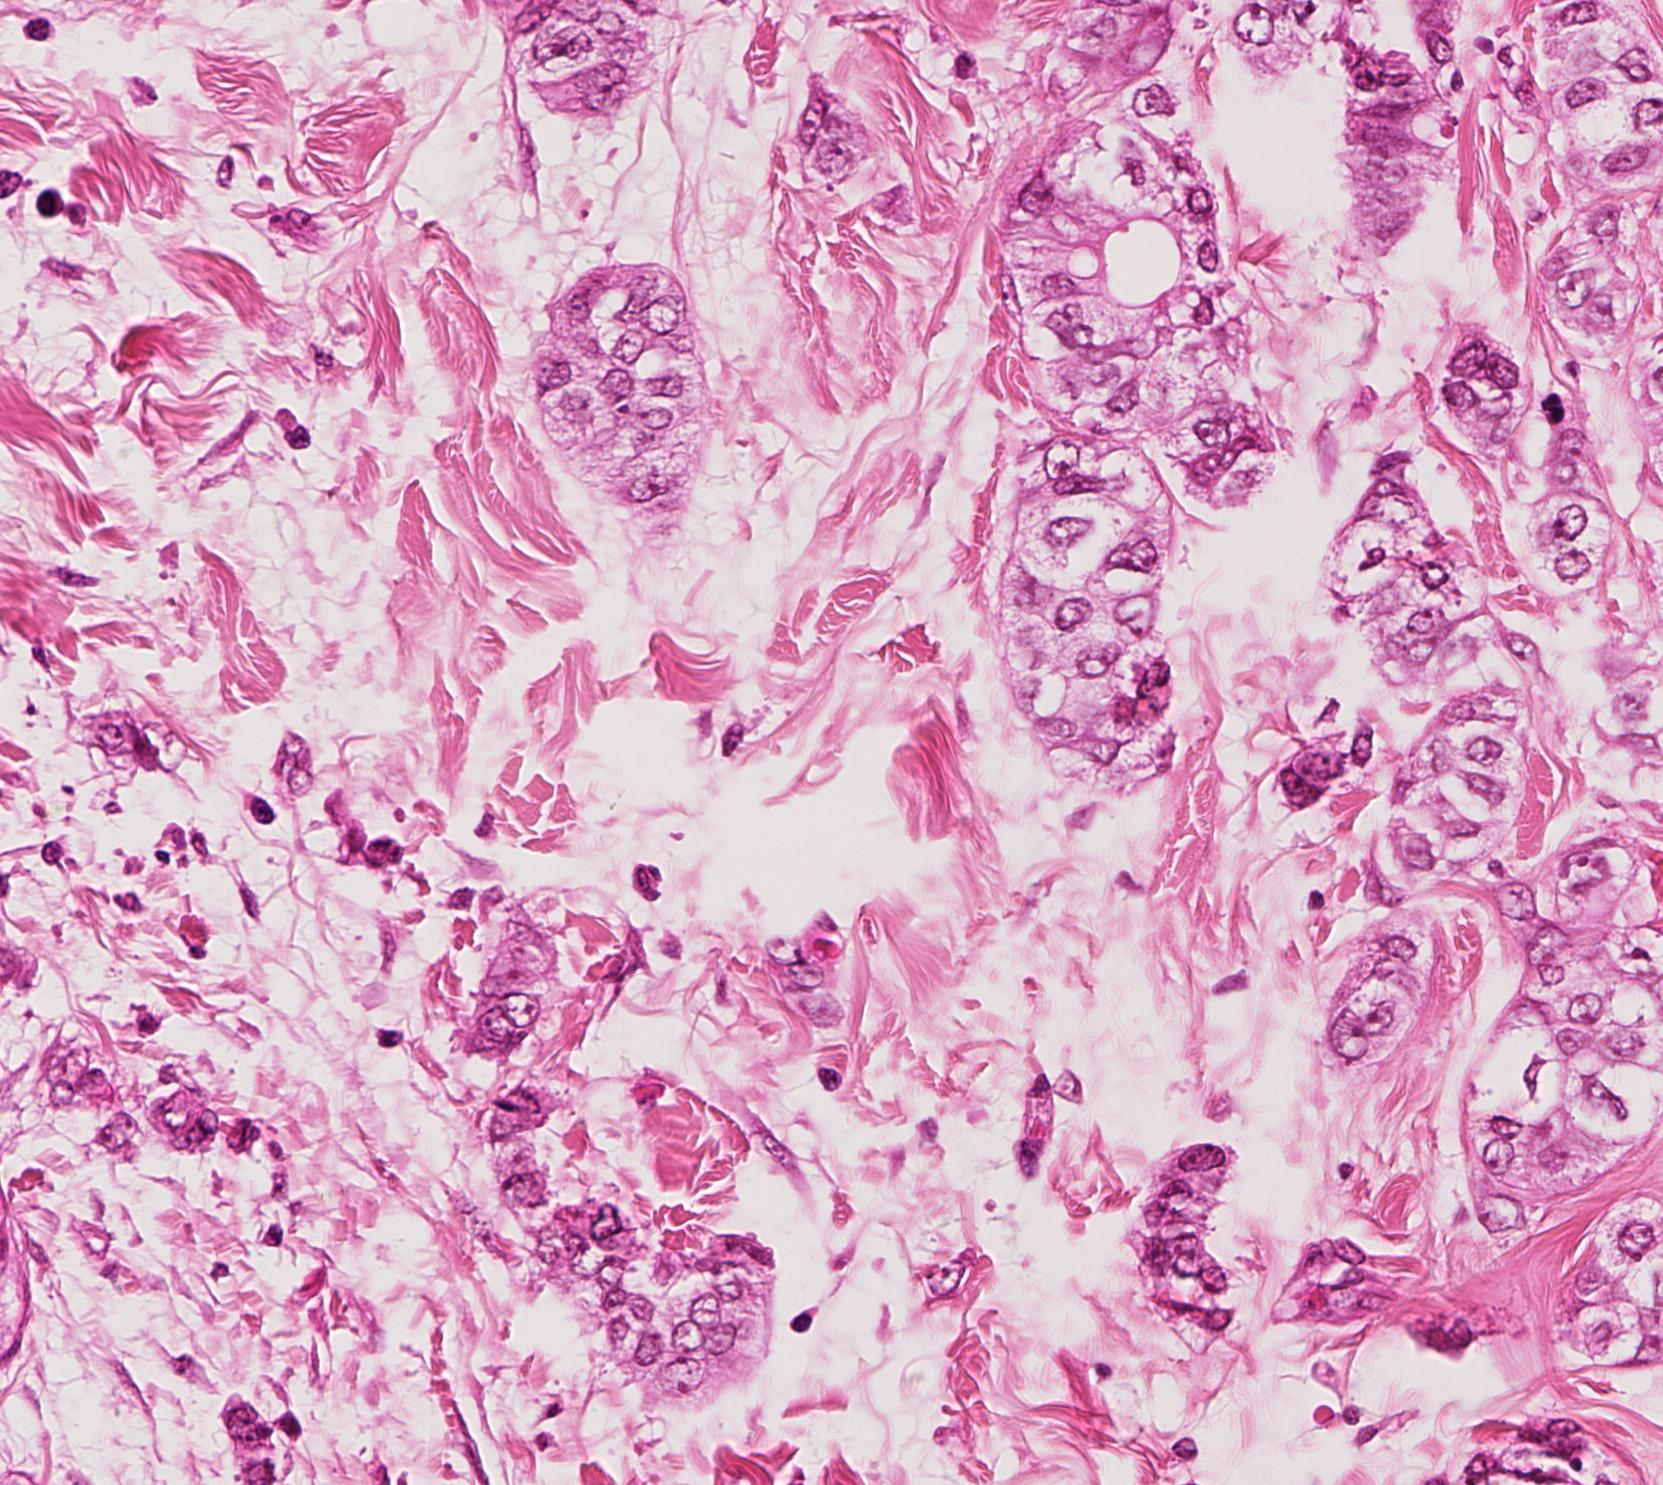mitosis: (1533, 390, 1591, 450)
